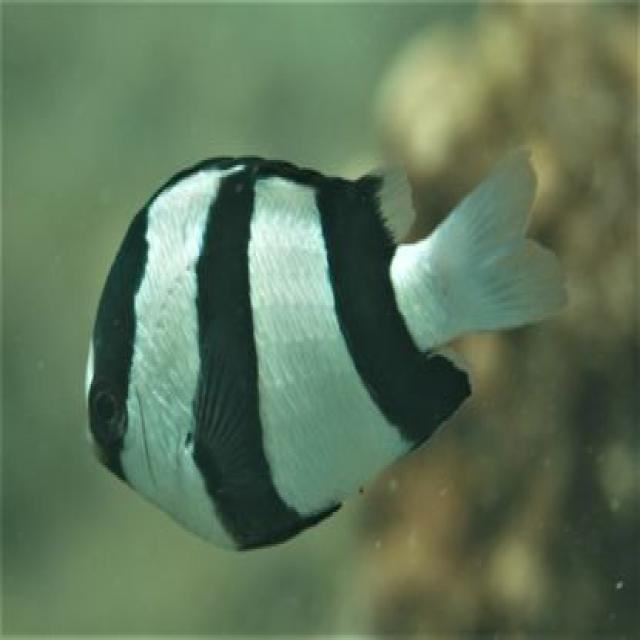ThreeStripedDamselfish: (85, 148, 569, 551)
